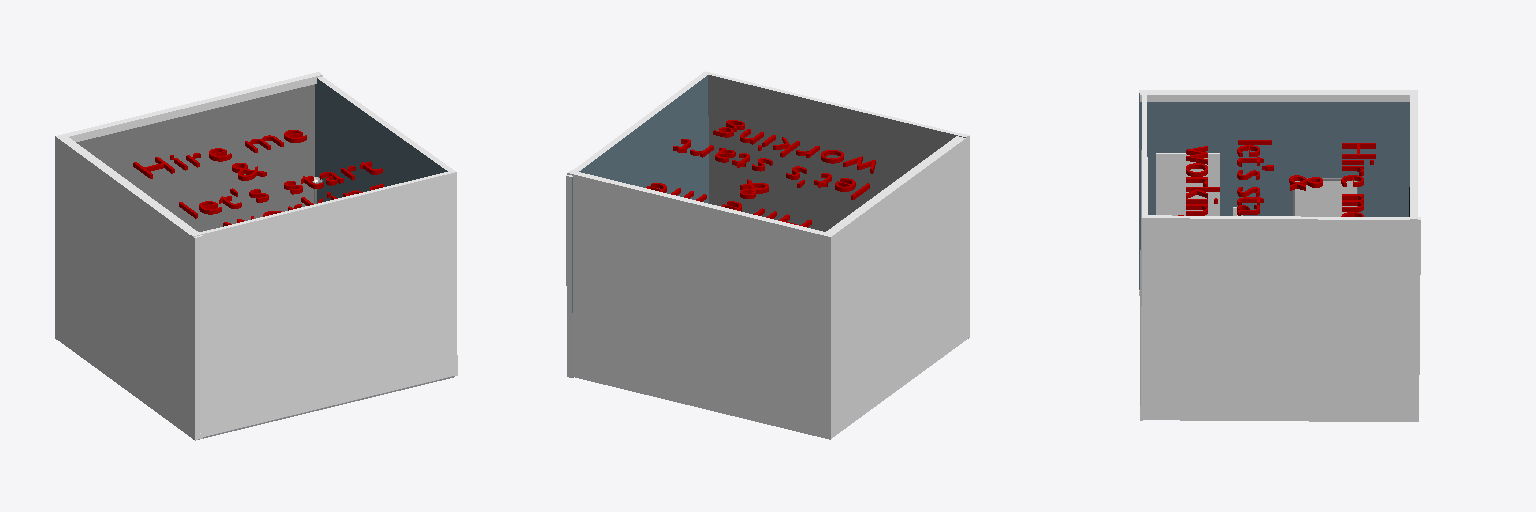
The model's file is myroom.obj.
The picture shows the model from 3 angles: view 1: azimuth 30°, elevation 25°; view 2: azimuth 150°, elevation 25°; view 3: azimuth 270°, elevation 25°; orthographic projection.
Parts seen in each view (by area): view 1: group[number redacted], group[number redacted], Text, group[number redacted]; view 2: group[number redacted], group[number redacted], Text, group[number redacted]; view 3: group[number redacted], group[number redacted], Text, group[number redacted], group[number redacted], group[number redacted].
Part boxes in pixels (bbox=[...]): group[number redacted]: bbox=[191, 76, 457, 436]; group[number redacted]: bbox=[55, 72, 320, 439]; Text: bbox=[133, 130, 383, 226]; group[number redacted]: bbox=[64, 74, 322, 243]; group[number redacted]: bbox=[567, 134, 969, 439]; group[number redacted]: bbox=[566, 71, 968, 377]; Text: bbox=[646, 120, 875, 227]; group[number redacted]: bbox=[571, 133, 961, 233]; group[number redacted]: bbox=[1140, 90, 1420, 421]; group[number redacted]: bbox=[1139, 90, 1417, 421]; Text: bbox=[1178, 140, 1375, 216]; group[number redacted]: bbox=[1140, 93, 1412, 225]; group[number redacted]: bbox=[1159, 156, 1217, 215]; group[number redacted]: bbox=[1293, 178, 1357, 216].
Bounding box in the file's own units: 4.04 × 2.99 × 3.75.